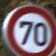Speed Limit -70-: (0, 1, 55, 55)
